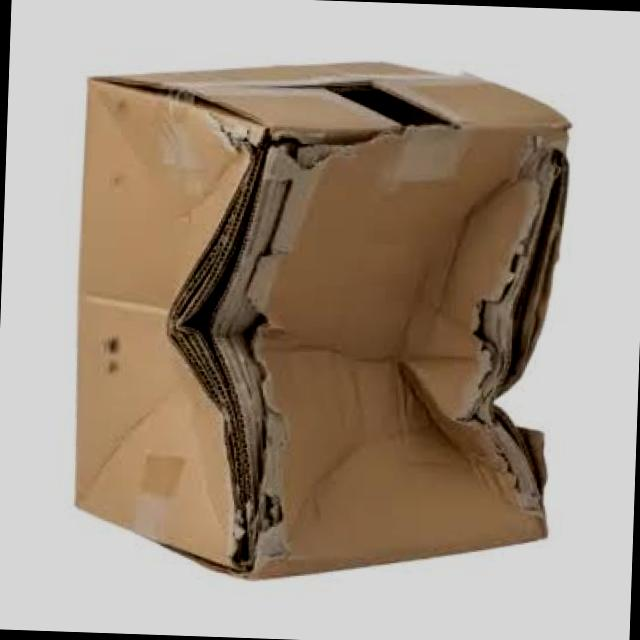package_damage: (145, 105, 346, 582), (412, 113, 587, 545), (265, 62, 491, 144)
